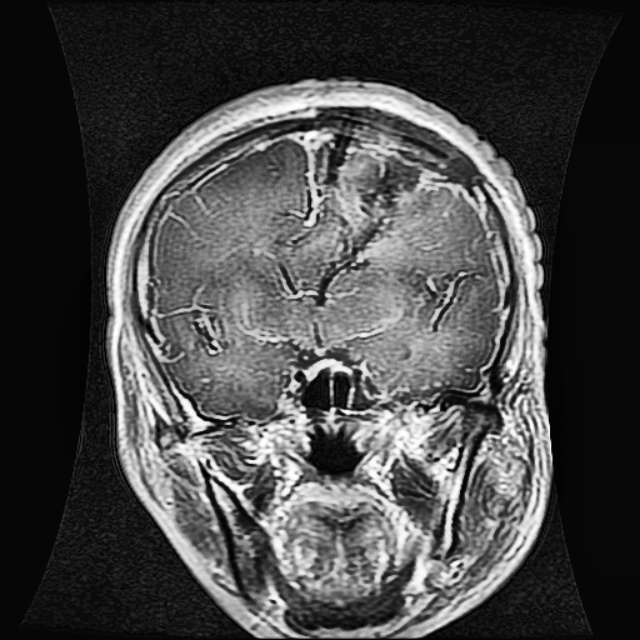Glioma: (309, 135, 432, 240)
